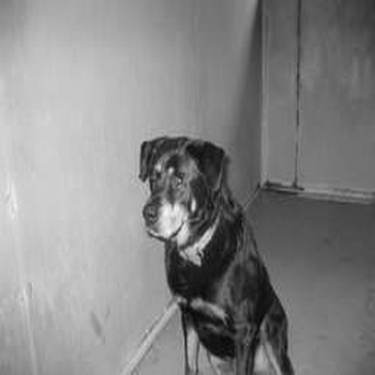dog: (124, 131, 303, 374)
